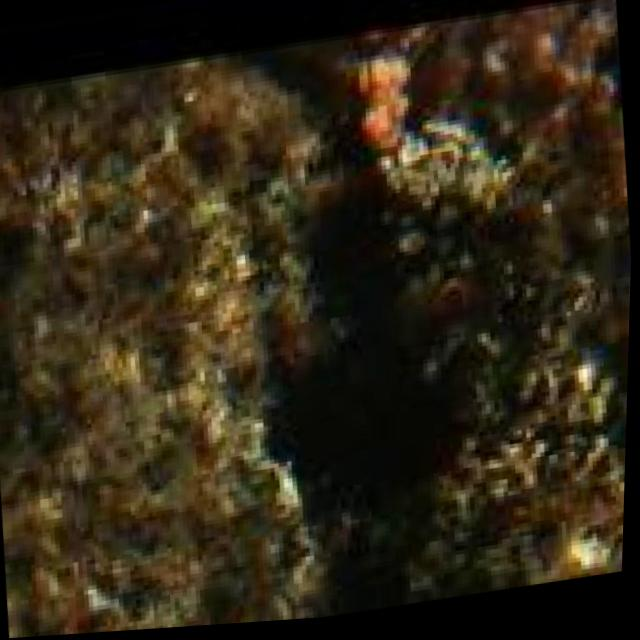Dead Coral: (0, 3, 639, 640)
